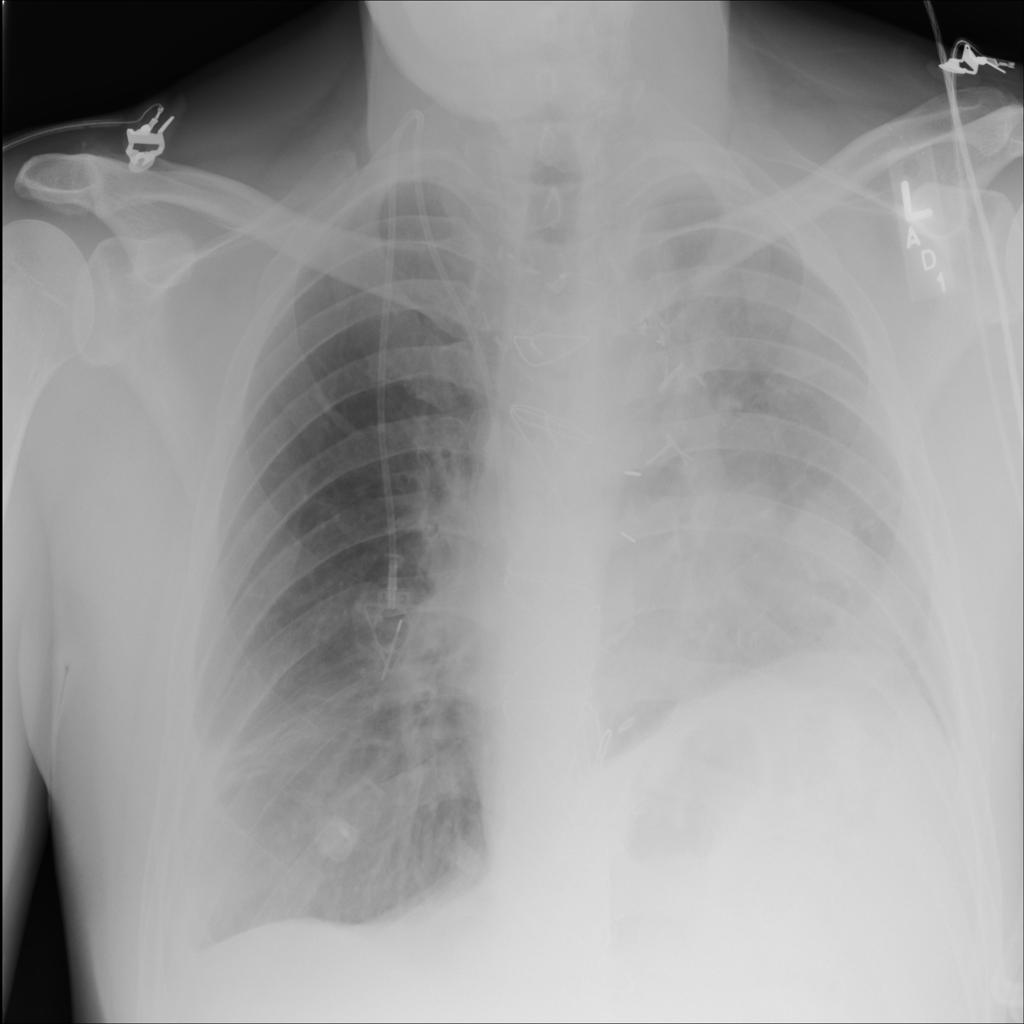nodule: (772, 479, 890, 612), (301, 796, 377, 873)
